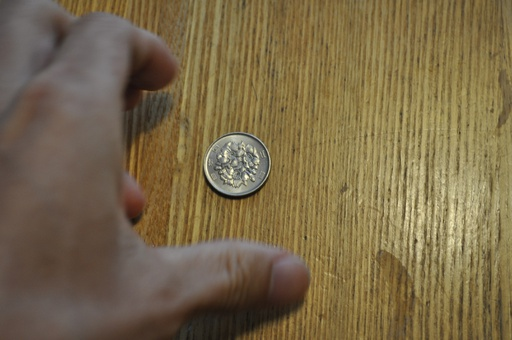100yen: (204, 133, 271, 196)
